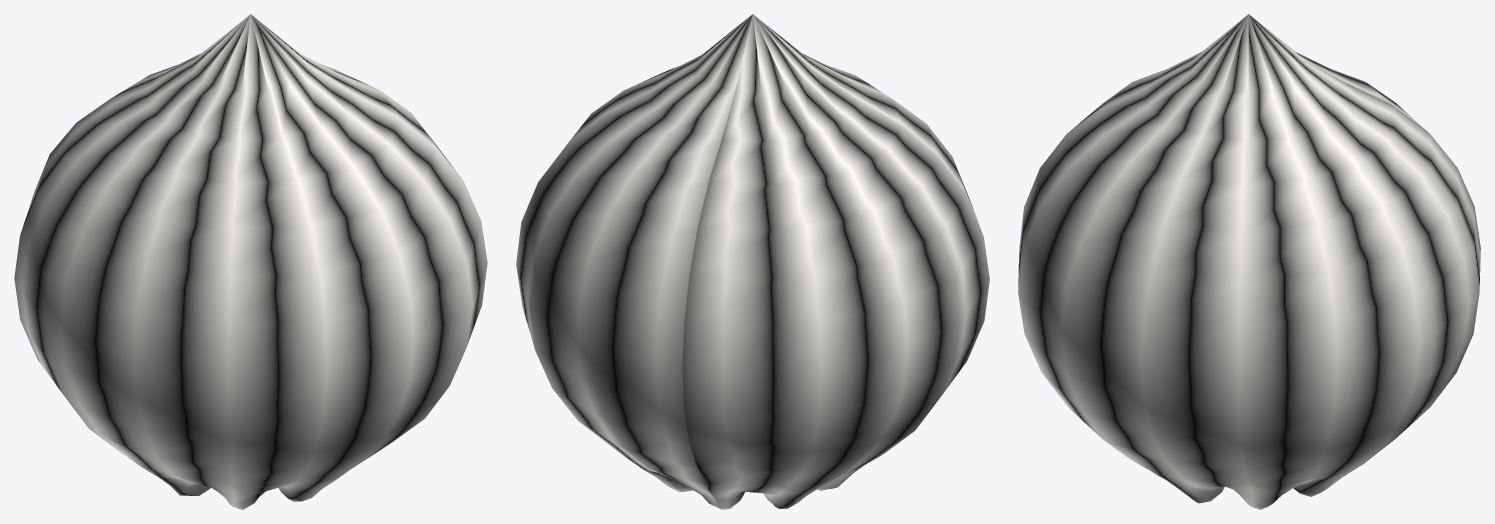
The model's file is onionV2.fbx.
The picture shows the model from 3 angles, left to right: view 1: azimuth 30°, elevation 25°; view 2: azimuth 150°, elevation 25°; view 3: azimuth 270°, elevation 25°; orthographic projection.
Parts seen in each view (by area): view 1: Onion; view 2: Onion; view 3: Onion.
Boxes of the visible parts, x1=… form: Onion: x1=14, y1=14, x2=487, y2=509; Onion: x1=516, y1=14, x2=989, y2=509; Onion: x1=1018, y1=14, x2=1480, y2=509.
Size of the model in its own units: 63.03 by 67.91 by 61.53.
1 material, 1 textured.
